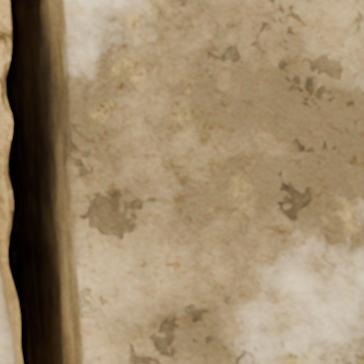brick: (55, 0, 363, 363), (0, 266, 16, 363)
crack: (2, 0, 74, 363)
